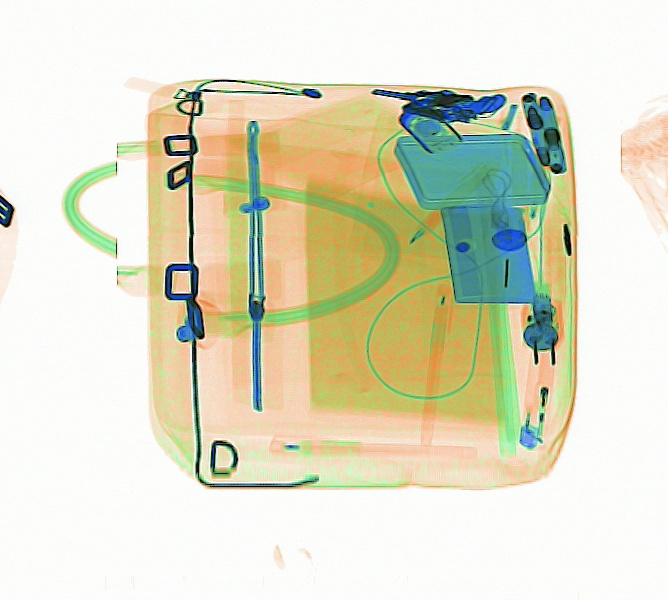lighter: (516, 340, 556, 450)
